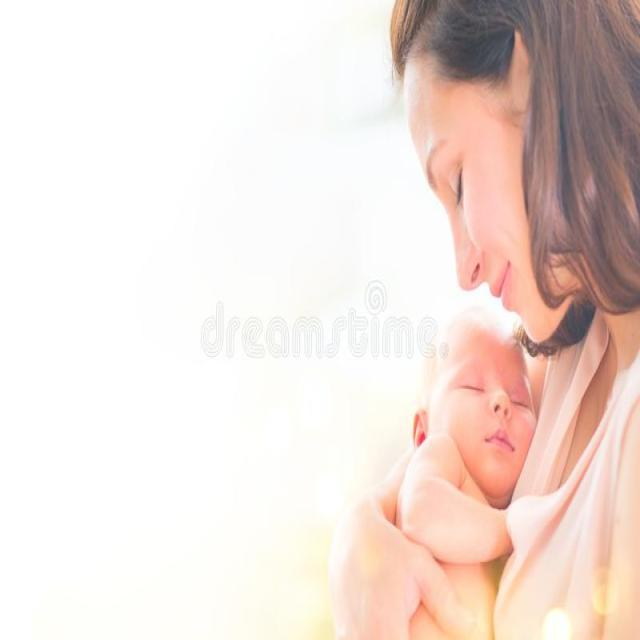non-dog: (329, 1, 640, 640), (381, 309, 541, 640)
